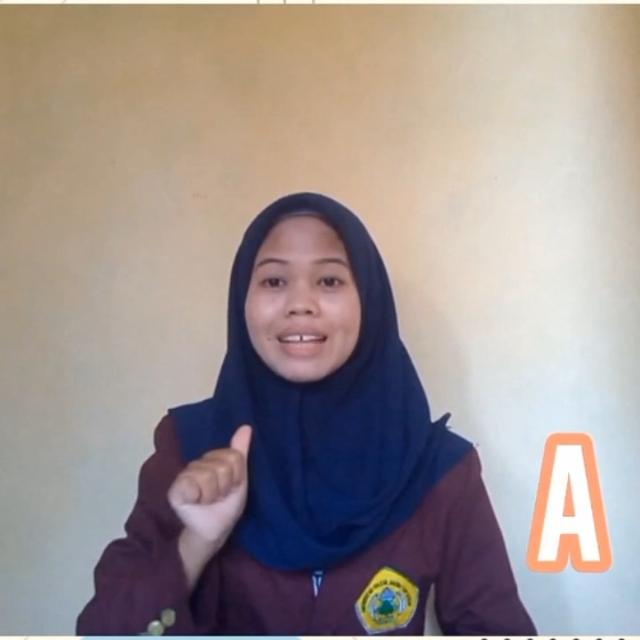A: (162, 417, 274, 555)
